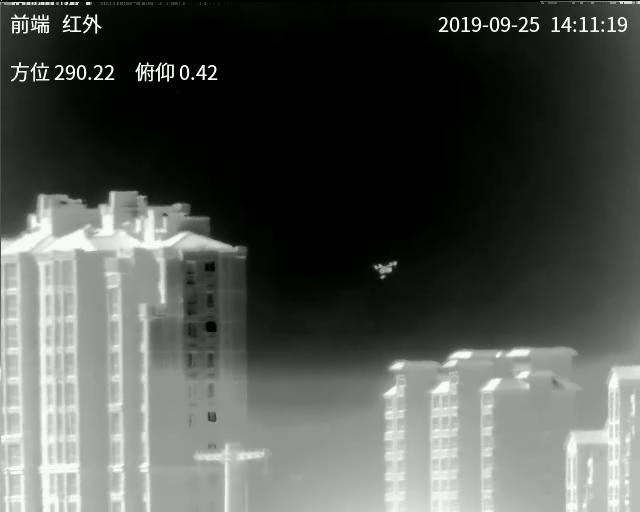uav: (371, 256, 396, 280)
